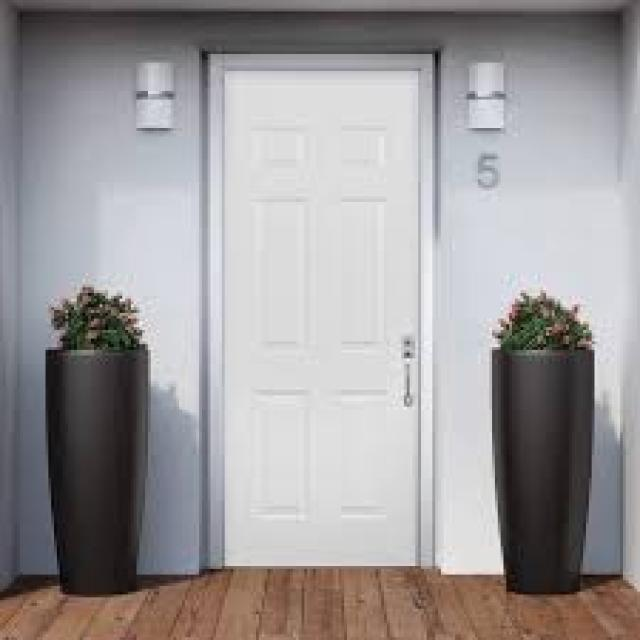door: (218, 57, 425, 569)
